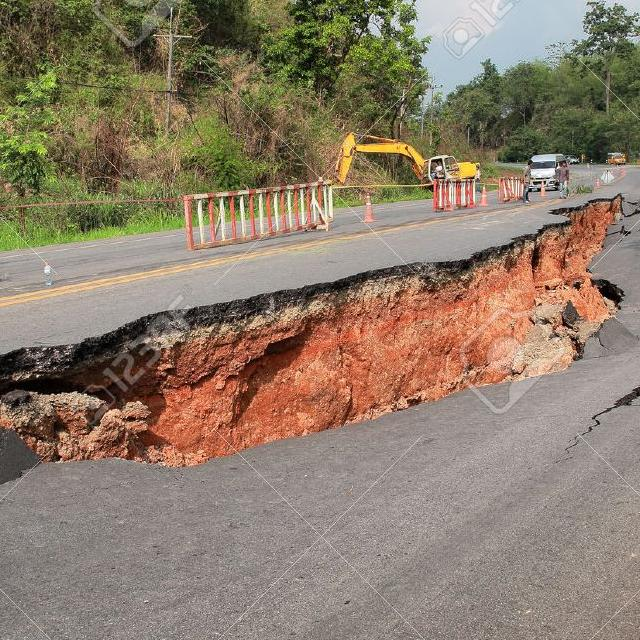retak_memanjang: (558, 349, 640, 455)
